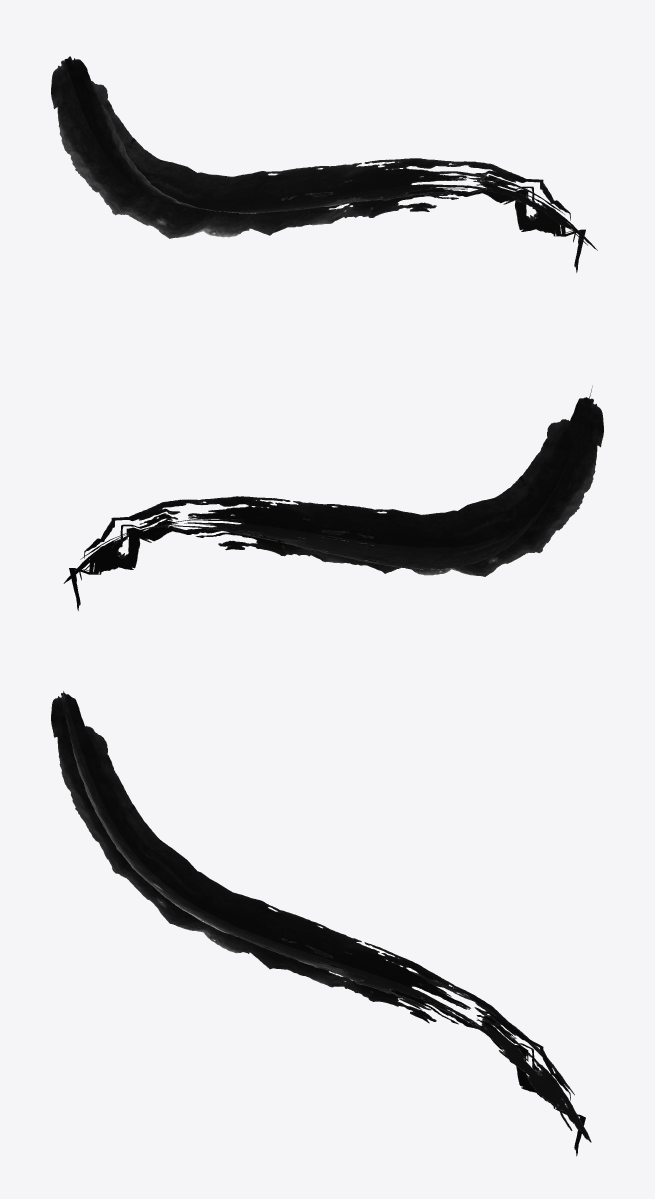
The model's file is Ink_Plane001.FBX.
3 views of the same model, one above another, from view 1: azimuth 30°, elevation 25°; view 2: azimuth 150°, elevation 25°; view 3: azimuth 330°, elevation 25° (orthographic).
Parts seen in each view (by area): view 1: Ink_Plane001; view 2: Ink_Plane001; view 3: Ink_Plane001.
Boxes of the visible parts, x1,y1,x2,y2 form: Ink_Plane001: (51, 56, 597, 272); Ink_Plane001: (63, 385, 603, 610); Ink_Plane001: (51, 691, 591, 1156).
Bounding box in the file's own units: 108 × 67.37 × 15.11.
